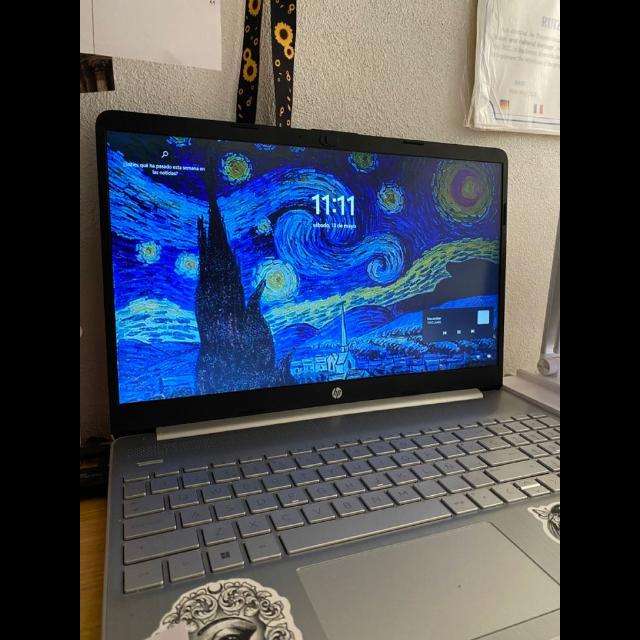laptop: (97, 111, 560, 639)
